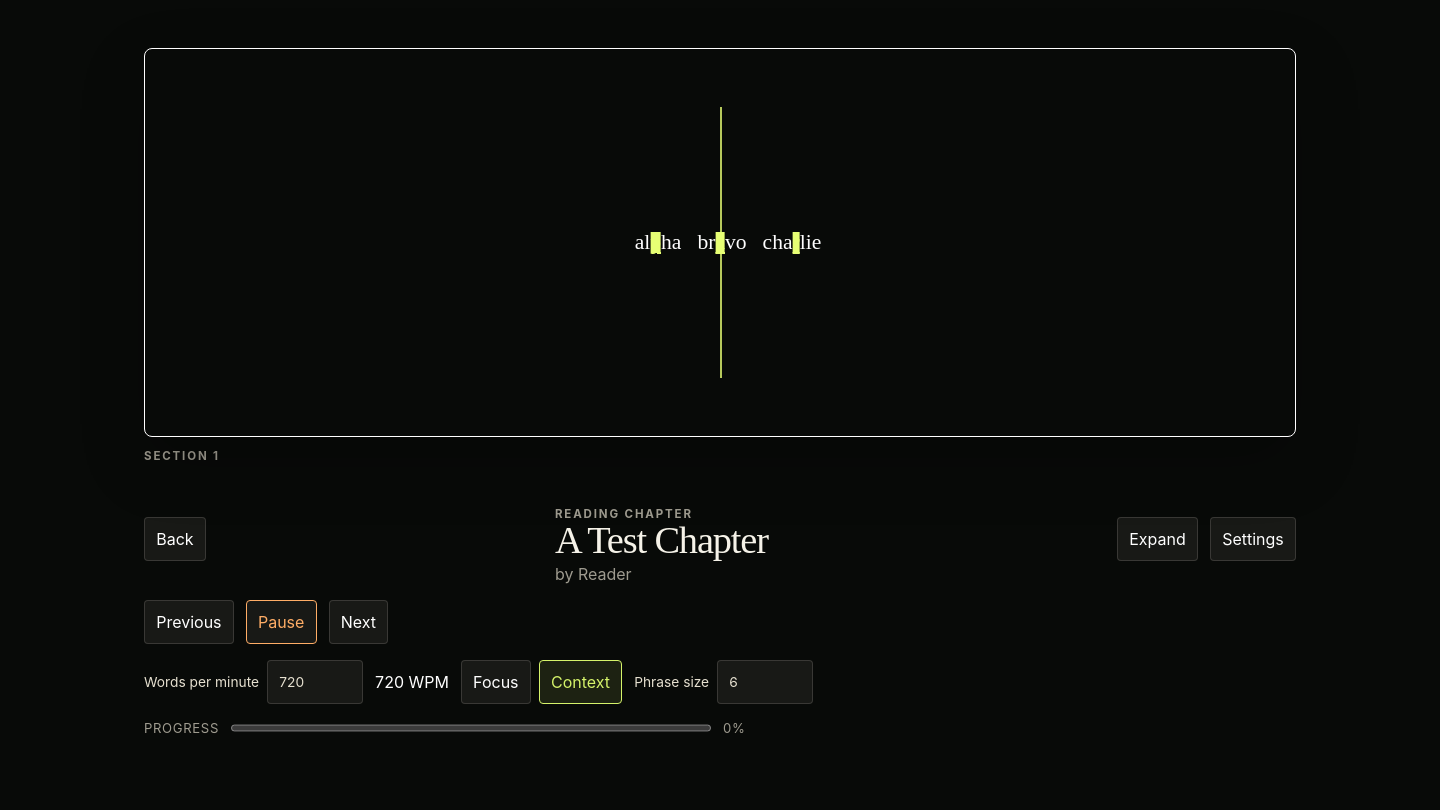
Scenario: reader surface › restores every persisted setting and applies accessibility state classes
Check: the button "Pause" is shown, box top-left (246, 600), bottom-right (316, 644)
Check: the text "720 WPM" is shown, box top-left (375, 672), bottom-right (449, 692)
Click the button "Settings" at (1253, 539), box top-left (1210, 517), bottom-right (1296, 561)
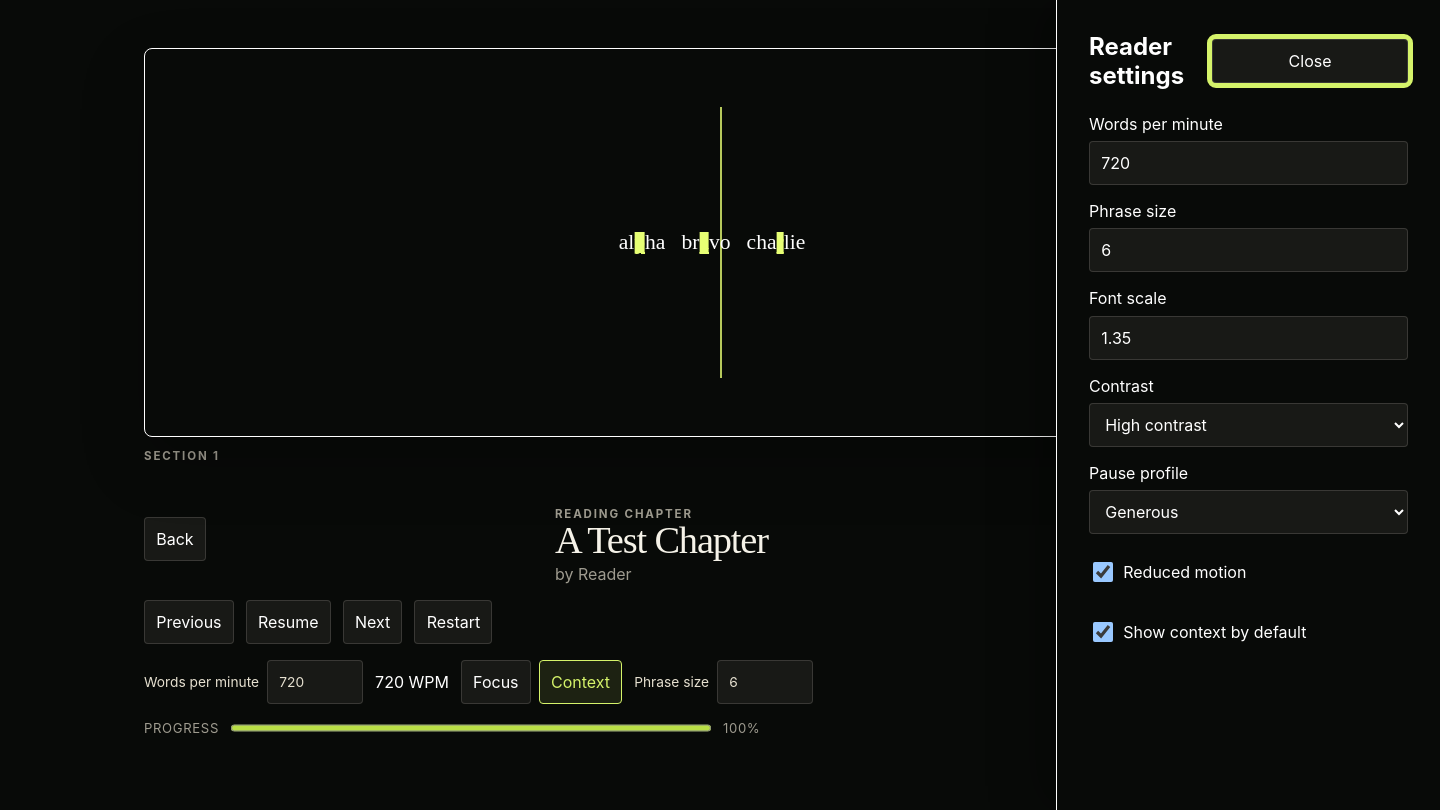
Check: the dialog "Reader settings" is shown, box top-left (1056, 0), bottom-right (1439, 809)
Check: the number field named "Settings words per minute" holds "720", box top-left (1089, 141), bottom-right (1408, 185)
Check: the number field named "Settings phrase size" holds "6", box top-left (1089, 228), bottom-right (1408, 272)
